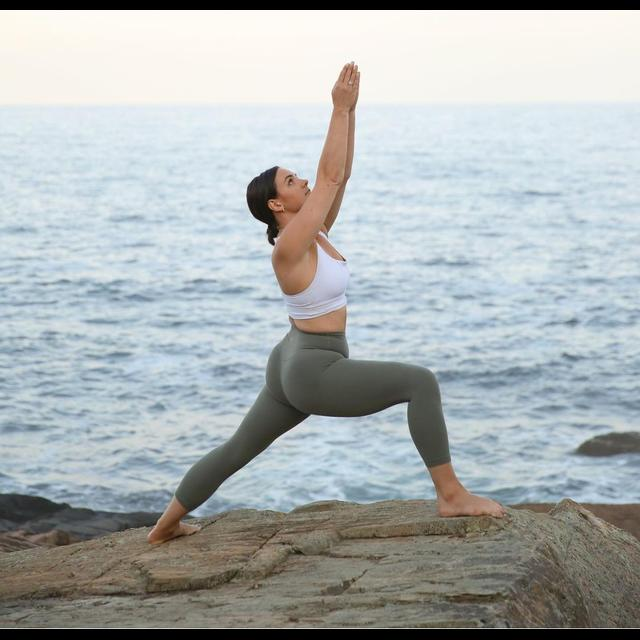Warrior_I: (119, 45, 518, 543)
